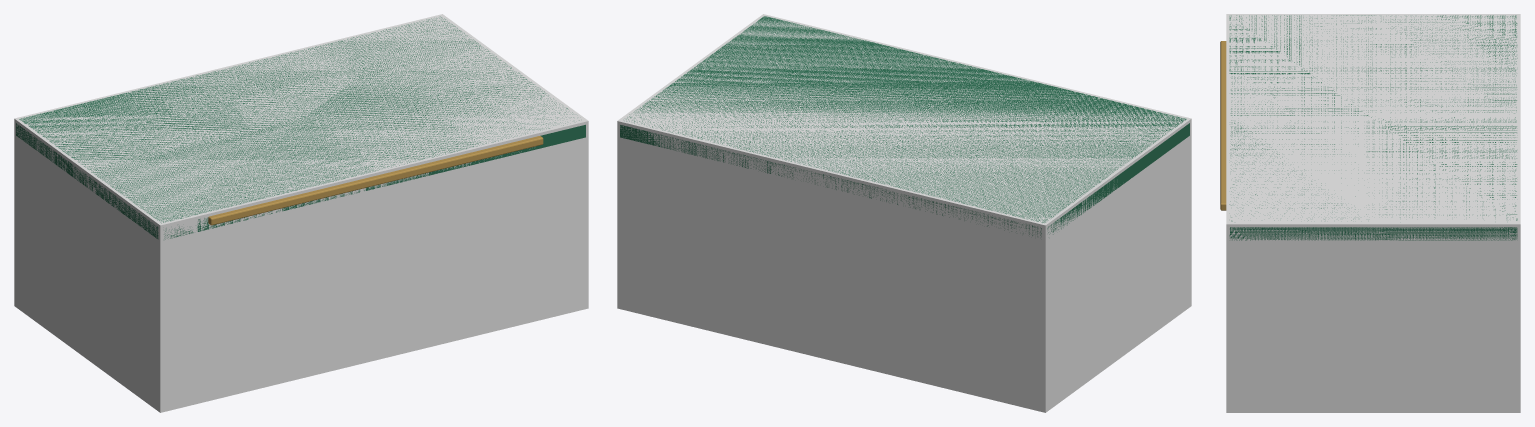
Rendered from coffee-table_boutique.glb.
3 views of the same model, side by side, from view 1: azimuth 30°, elevation 25°; view 2: azimuth 150°, elevation 25°; view 3: azimuth 270°, elevation 25° (orthographic).
Parts seen in each view (by area): view 1: COL_coffee-table, MESH_Top, MESH_TierTrim_01; view 2: COL_coffee-table, MESH_Top; view 3: COL_coffee-table, MESH_Top, MESH_TierTrim_01.
Boxes of the visible parts, x1,y1,x2,y2 form: COL_coffee-table: [14, 14, 588, 412]; MESH_Top: [16, 16, 585, 239]; MESH_TierTrim_01: [208, 136, 543, 225]; COL_coffee-table: [617, 14, 1191, 412]; MESH_Top: [620, 16, 1189, 236]; COL_coffee-table: [1226, 14, 1520, 412]; MESH_Top: [1229, 15, 1517, 240]; MESH_TierTrim_01: [1220, 41, 1226, 210].
Size of the model in its own units: 1.1 by 0.46 by 0.663.
